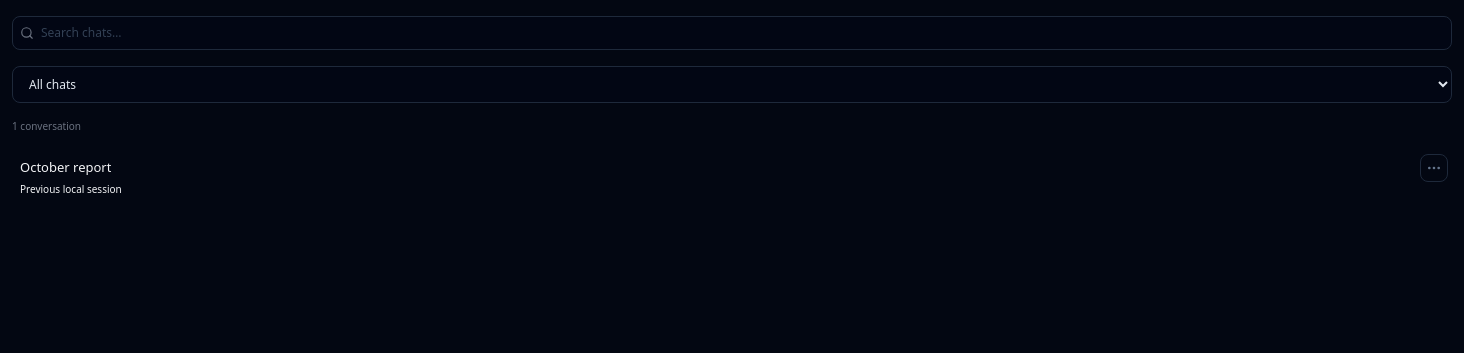
Test: conversation library controls › renames a conversation without changing its computer identity
Click the button named "Options for October report" at (1434, 168), box [1420, 154, 1448, 182]
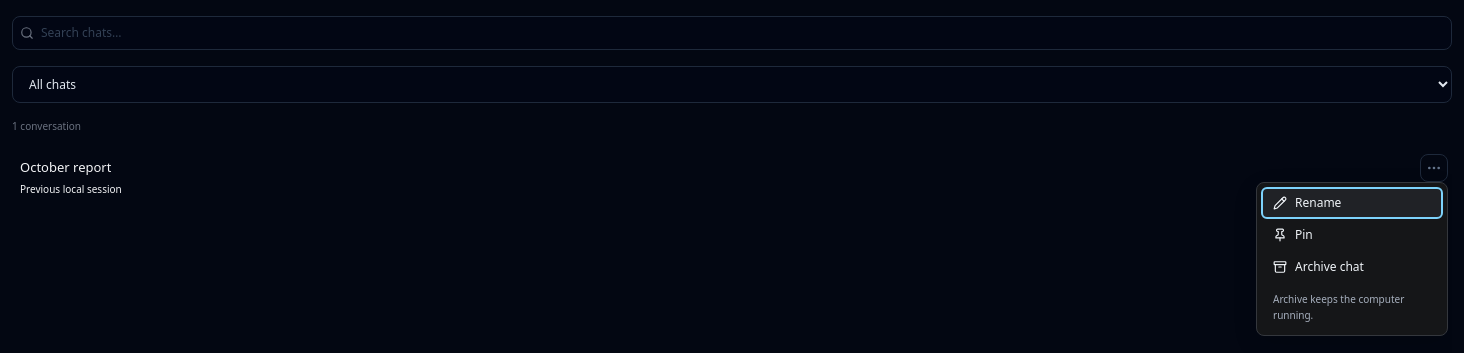
Click the menu item "Rename" at (1352, 203), box [1261, 187, 1443, 219]
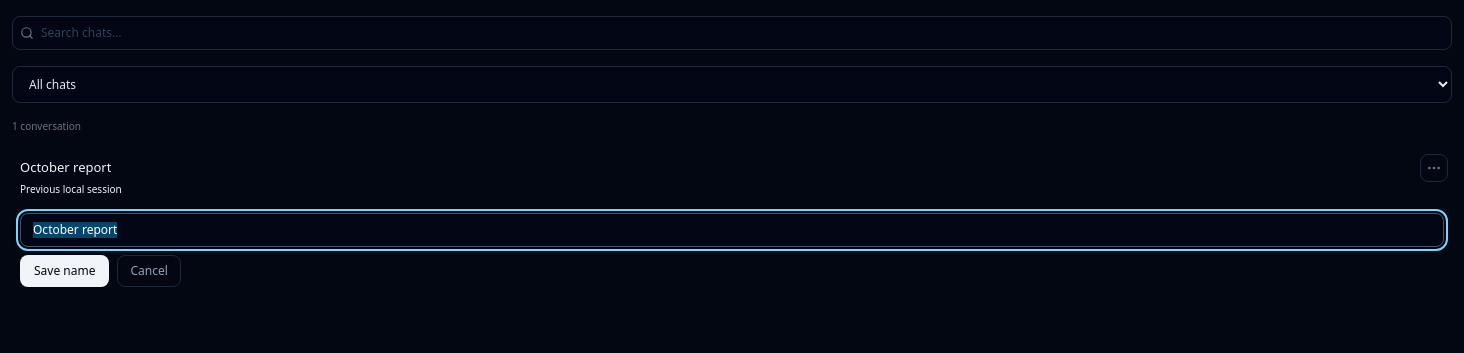
Replace the text in the field named "Conversation name" with "Monthly reconciliation" at (732, 230), box [20, 212, 1444, 246]
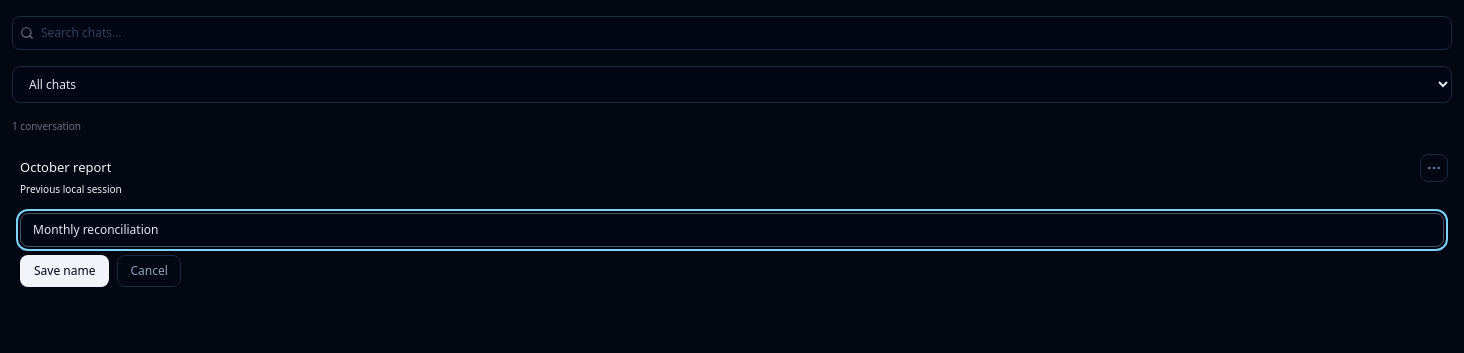
Click the button "Save name" at (65, 270), box [20, 254, 110, 286]
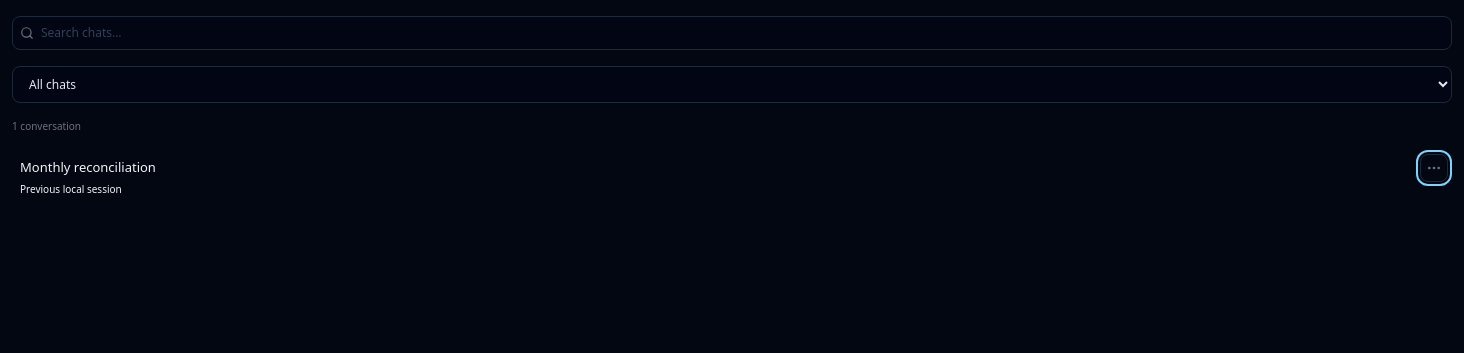
Expected: the text "Monthly reconciliation" is shown, [20, 158, 156, 178]
